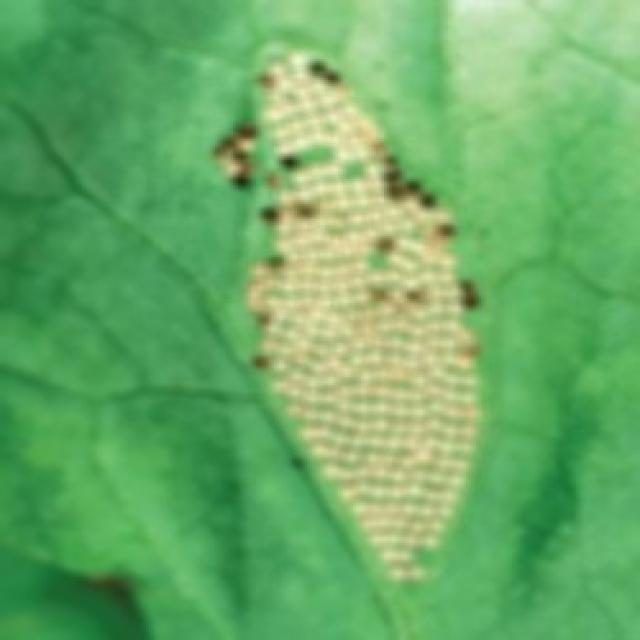army worm: (214, 51, 521, 592)
